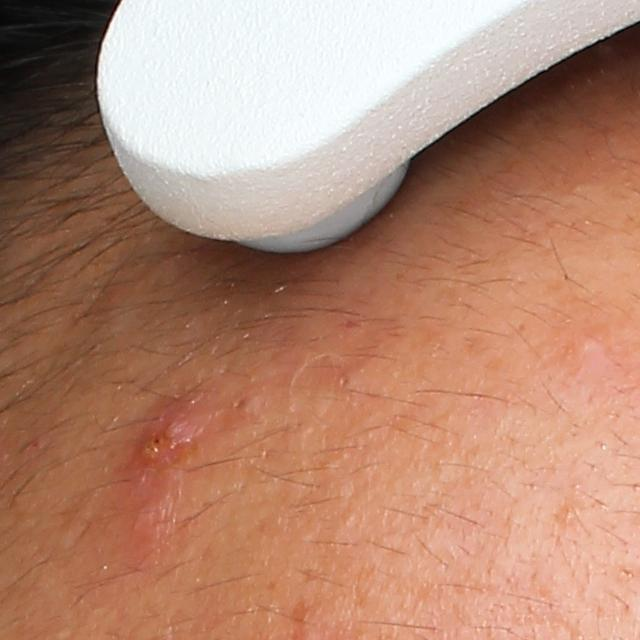papule: (133, 413, 190, 467), (119, 497, 175, 550), (562, 328, 614, 370)
